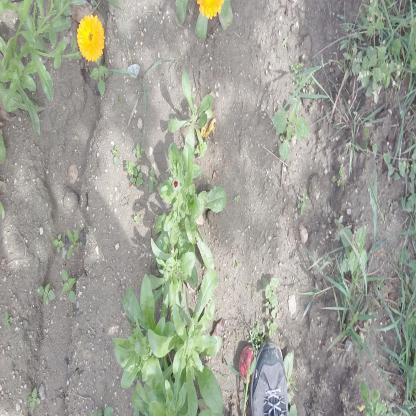marigold: (77, 16, 103, 58)
